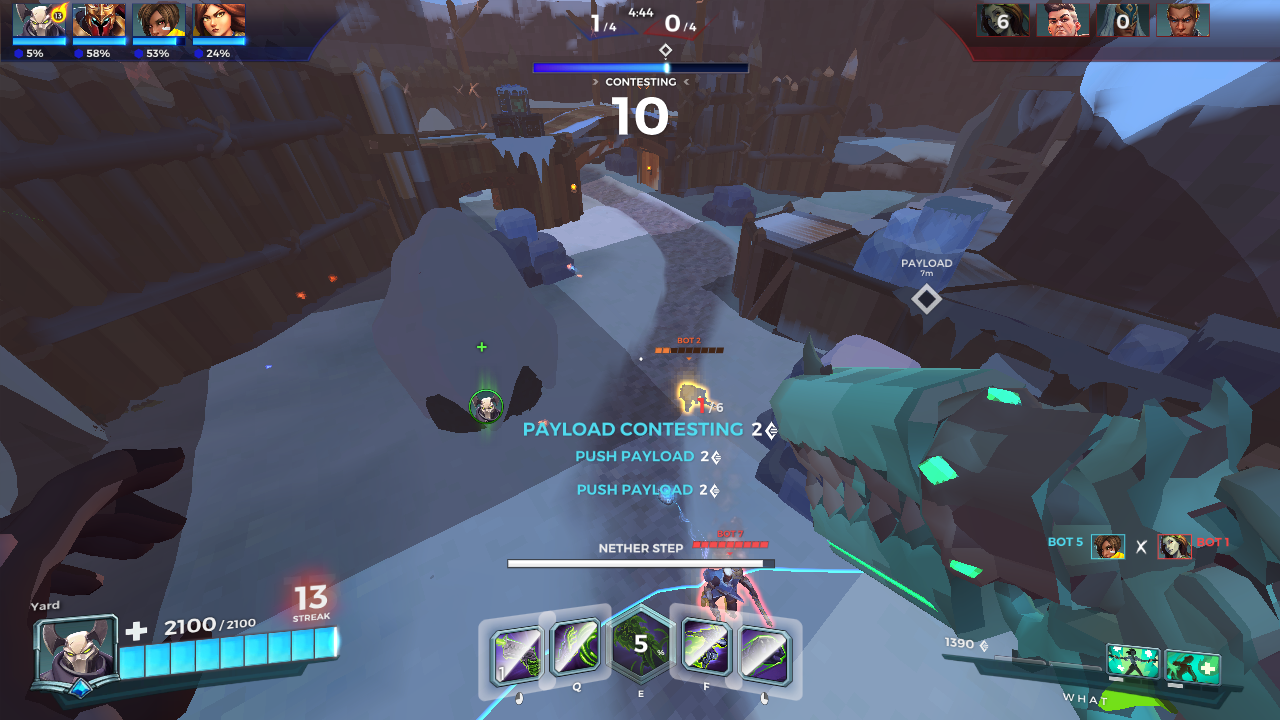model: (700, 568, 760, 613), (670, 374, 722, 422)
